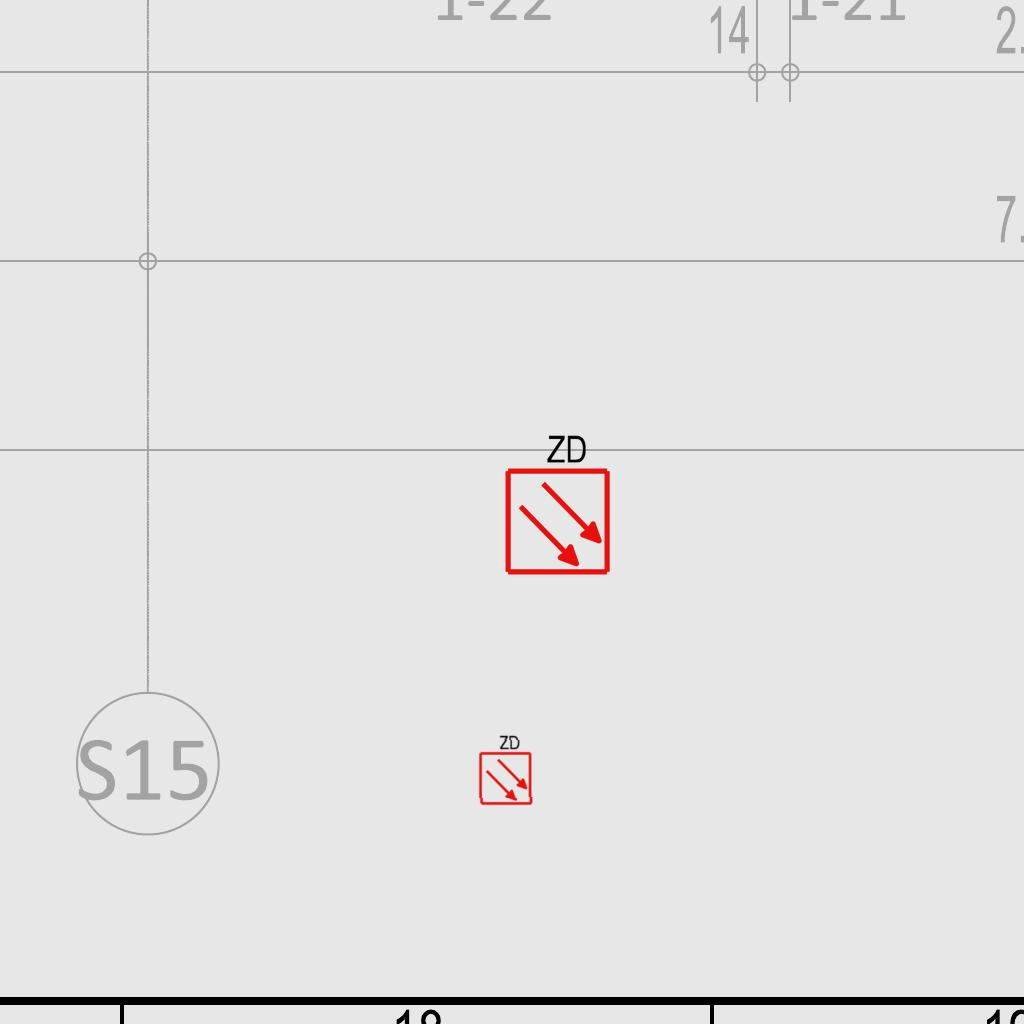ZD_Melder_in_Zwischendecke_mit_Revisionsoeffnung_mind_40_x_40_cm: (499, 428, 613, 577), (475, 731, 534, 807)
